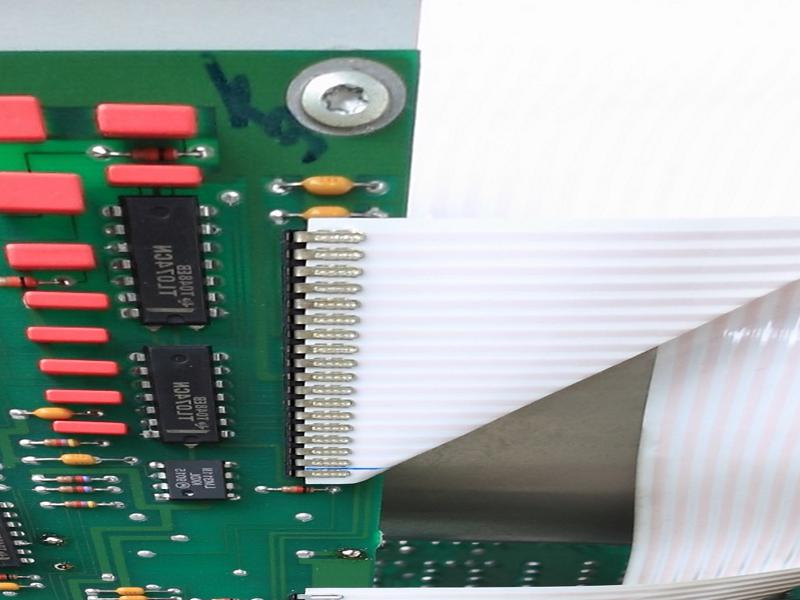Resistor: (121, 144, 187, 164), (1, 275, 44, 292), (36, 436, 83, 451), (277, 483, 321, 497), (50, 484, 99, 496), (60, 499, 102, 511), (52, 473, 96, 484)
